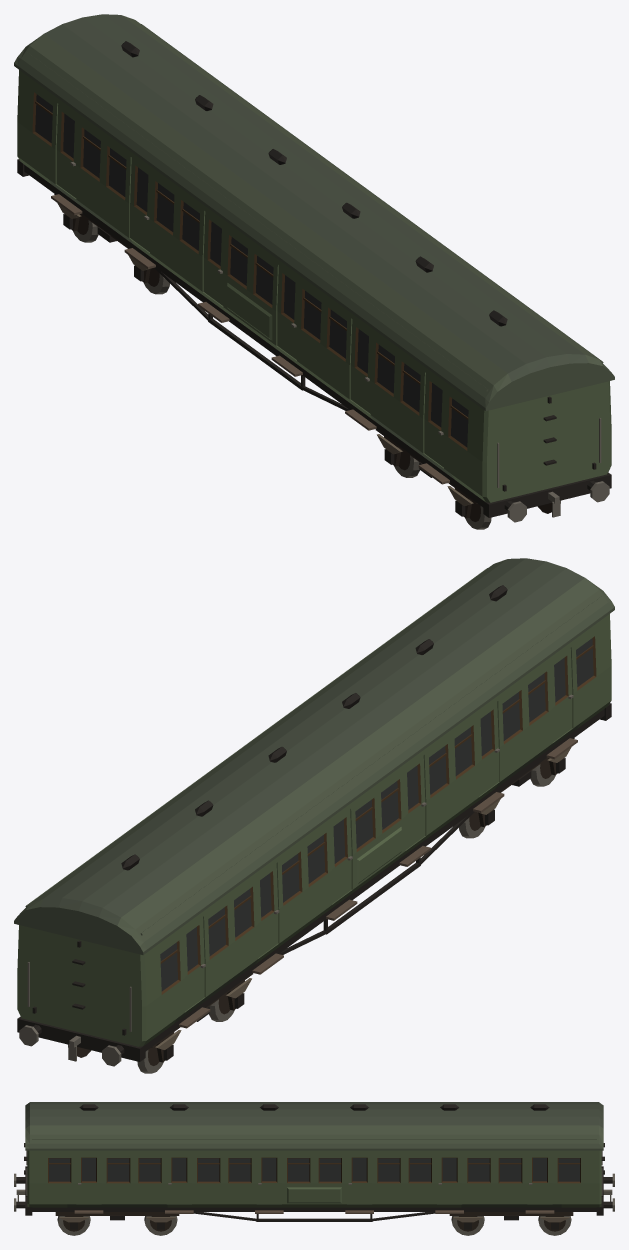
Rendered from passenger-carriage-de9d58.glb.
3 renders of one model, top to bottom at view 1: azimuth 30°, elevation 25°; view 2: azimuth 150°, elevation 25°; view 3: azimuth 270°, elevation 25°, orthographic. The views are drawn at different scales.
Visible parts, largest first — view 1: body, bogie-f-frame, bogie-r-frame; view 2: body, bogie-r-frame, bogie-f-frame; view 3: body, bogie-f-frame, bogie-r-frame, wheel-f1-set, wheel-r2-set, wheel-f2-set, wheel-r1-set.
Boxes of the visible parts, x1=… form: body: x1=14, y1=14, x2=614, y2=522; bogie-f-frame: x1=375, y1=429, x2=477, y2=518; bogie-r-frame: x1=54, y1=194, x2=150, y2=282; body: x1=14, y1=558, x2=614, y2=1066; bogie-r-frame: x1=151, y1=973, x2=253, y2=1062; bogie-f-frame: x1=478, y1=738, x2=574, y2=826; body: x1=14, y1=1102, x2=614, y2=1221; bogie-f-frame: x1=55, y1=1212, x2=179, y2=1229; bogie-r-frame: x1=449, y1=1212, x2=573, y2=1229; wheel-f1-set: x1=57, y1=1216, x2=90, y2=1235; wheel-r2-set: x1=538, y1=1216, x2=571, y2=1235; wheel-f2-set: x1=144, y1=1216, x2=177, y2=1235; wheel-r1-set: x1=451, y1=1216, x2=484, y2=1235.
Bounding box in the file's own units: 2.88 × 4 × 18.
